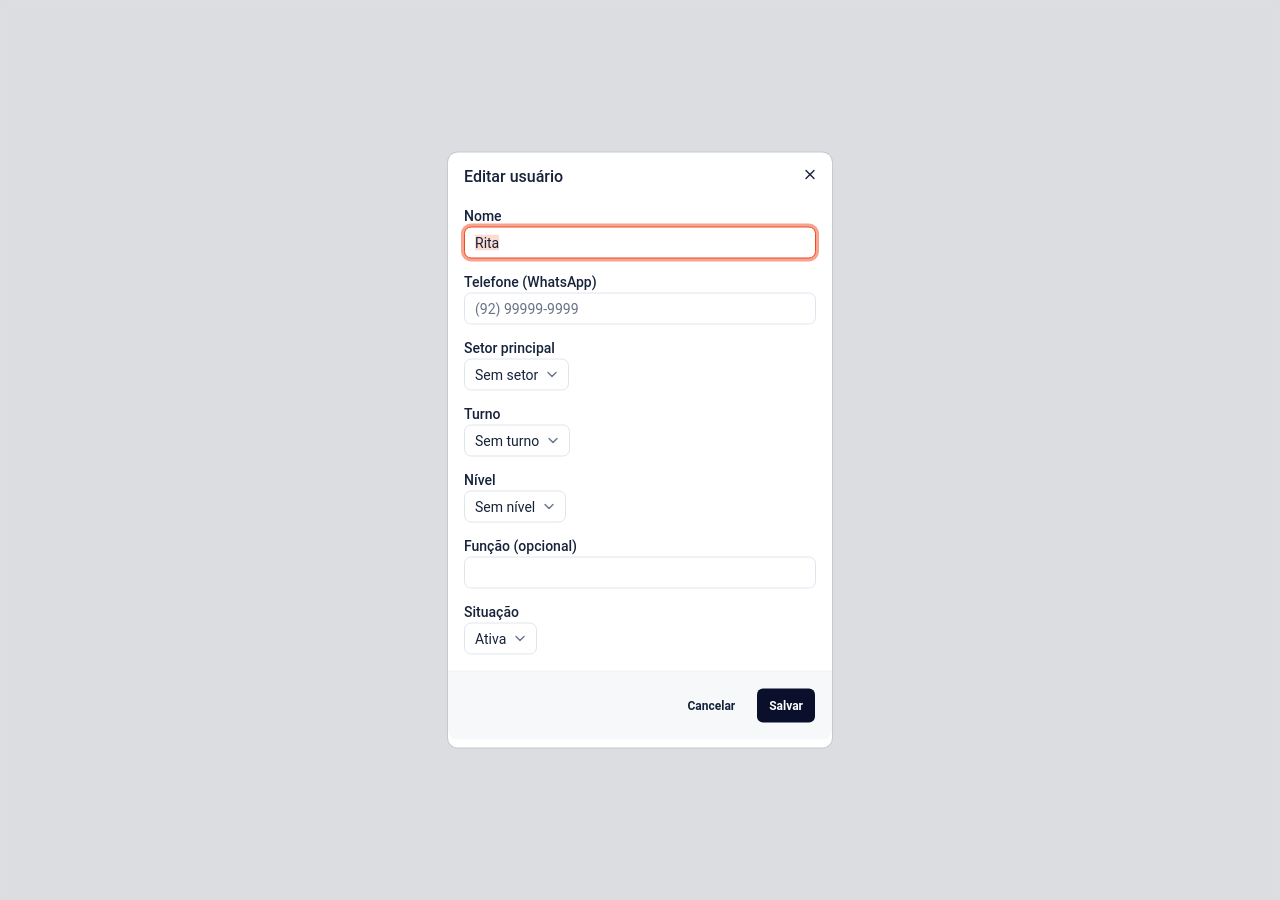
Scenario: EditUserDialog pessoa sem acesso › não deixa apagar o nome
Clear the field labelled "Nome": (640, 242) x1=464 y1=226 x2=816 y2=258
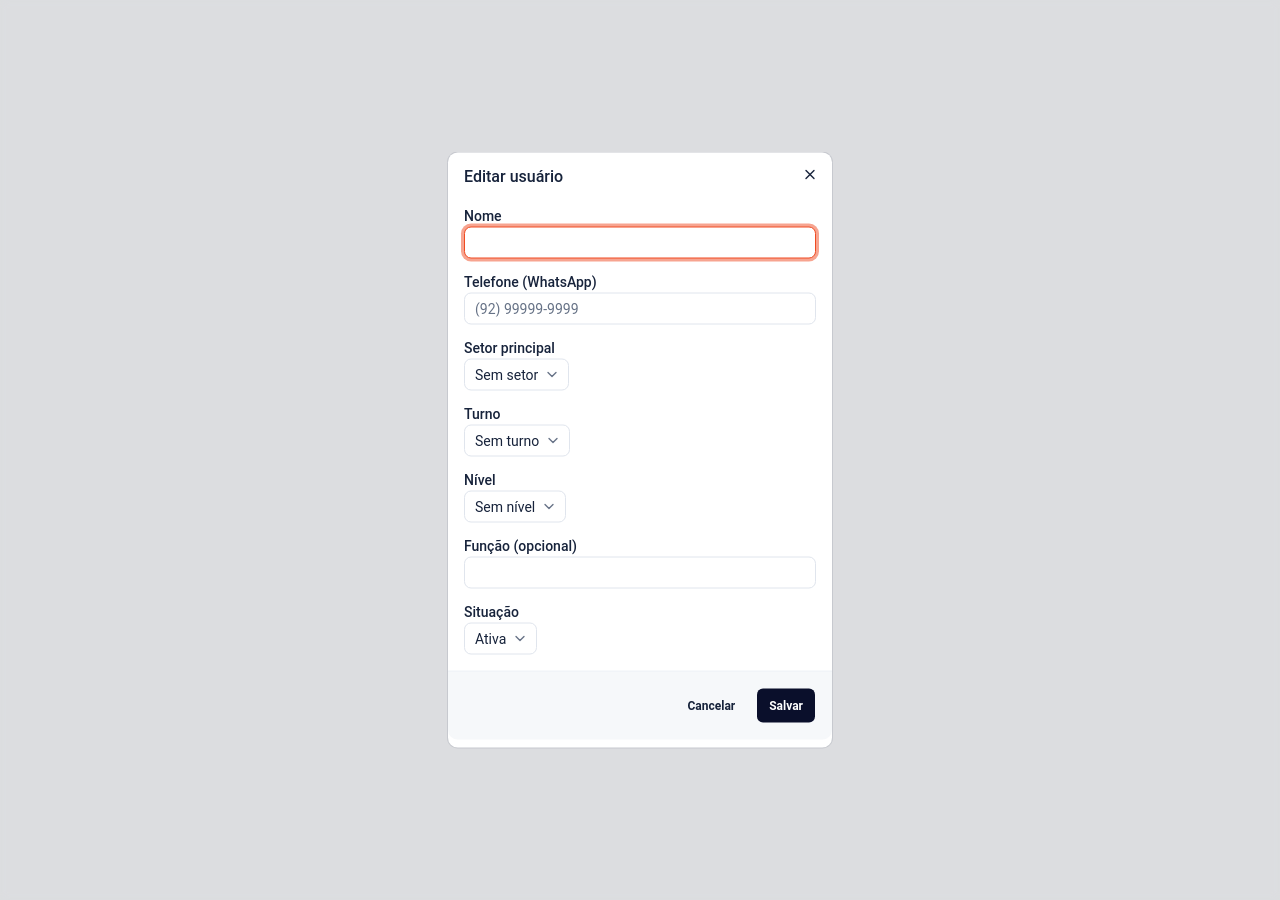
Click the button "Salvar": (786, 706) x1=756 y1=688 x2=816 y2=724
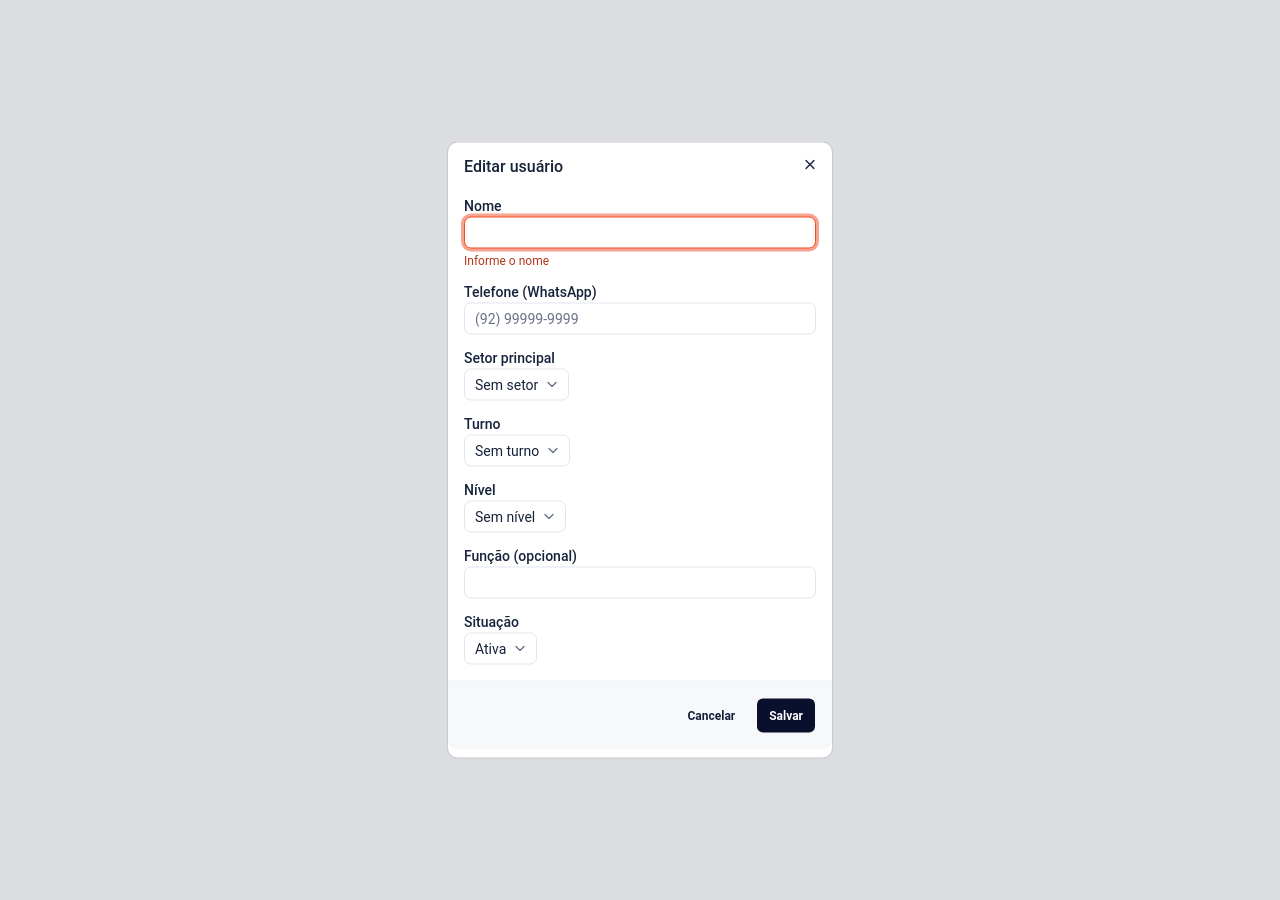
Expected: the text "Informe o nome" is shown, x1=464 y1=254 x2=549 y2=268
